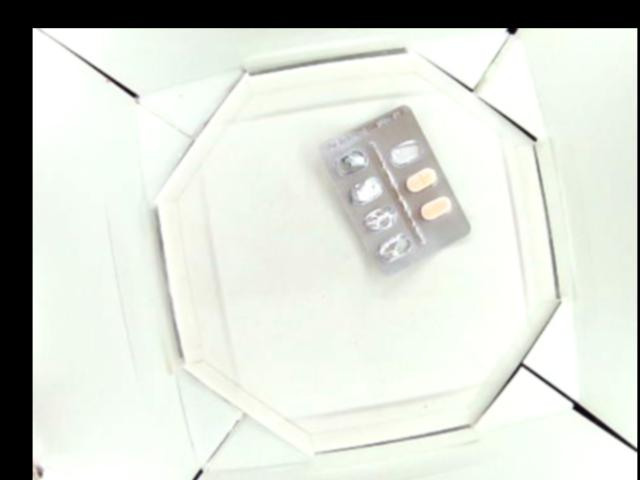Medicine: (317, 101, 470, 269)
